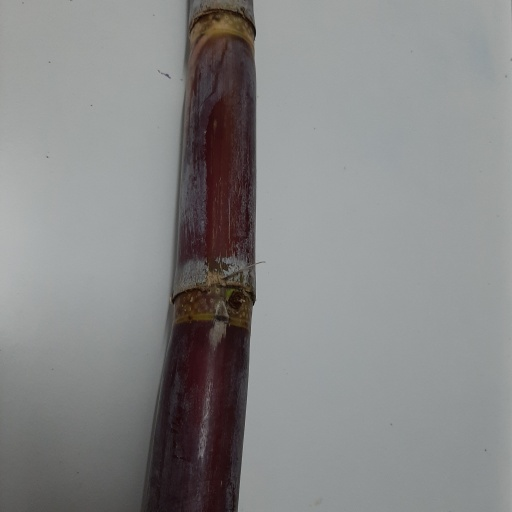Damage_Bud: (226, 289, 246, 314)
